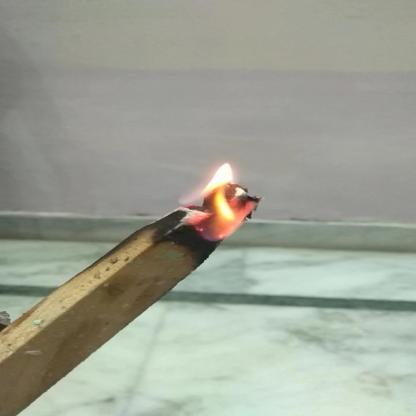fire: (176, 156, 269, 246)
